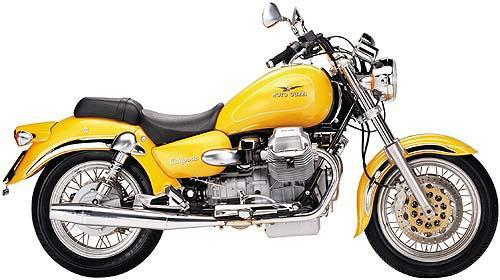Motorcycle: (0, 18, 499, 279)
